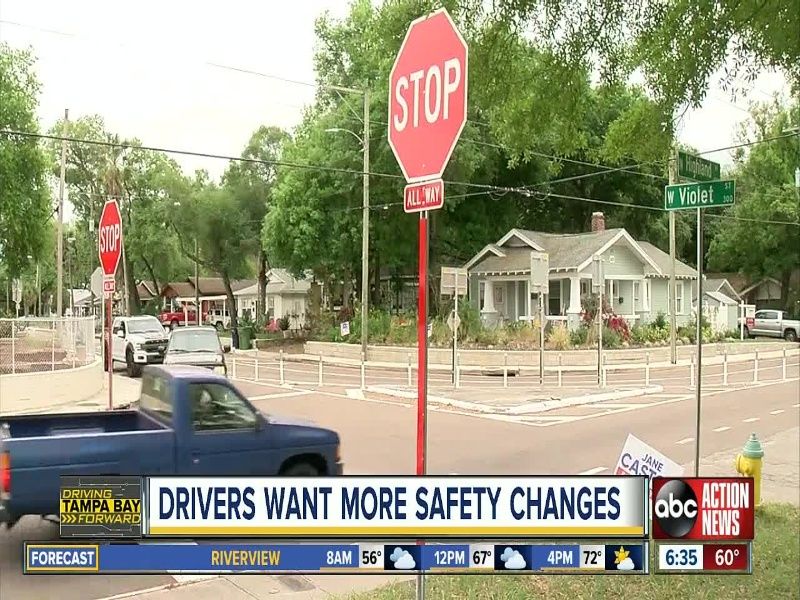stop sign: (384, 6, 469, 182), (96, 198, 125, 279)
